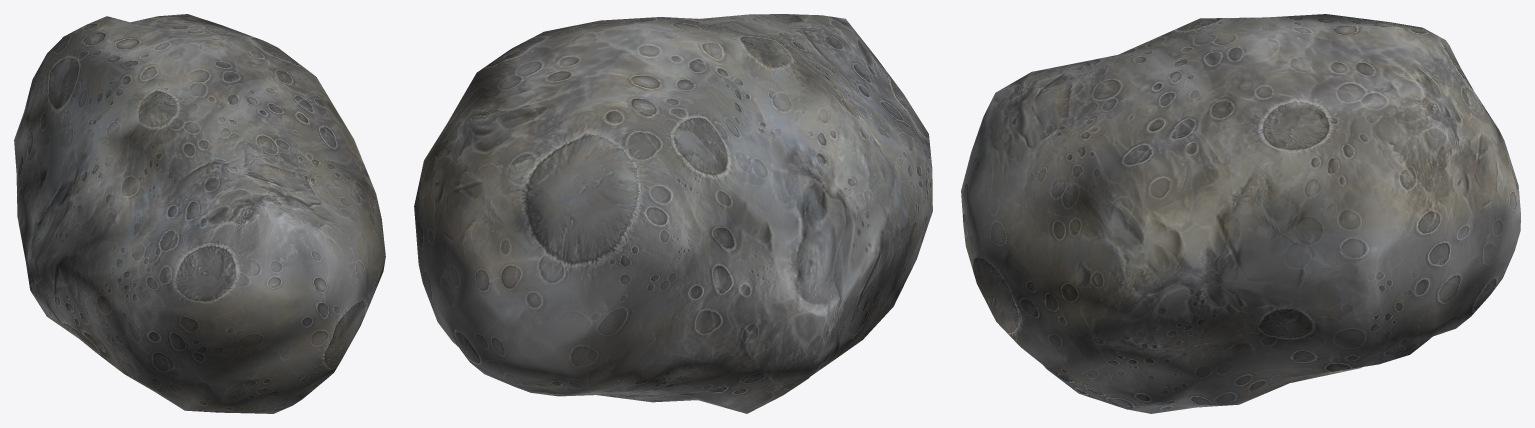
The model's file is asteroid_2_swap_02.dae.
3 views of the same model, side by side, from view 1: azimuth 30°, elevation 25°; view 2: azimuth 150°, elevation 25°; view 3: azimuth 270°, elevation 25° (orthographic). The views are drawn at different scales.
Visible parts, largest first — view 1: MULT[ShipMesh1]_LOD[0]_TAGS[DoScar]; view 2: MULT[ShipMesh1]_LOD[0]_TAGS[DoScar]; view 3: MULT[ShipMesh1]_LOD[0]_TAGS[DoScar].
Boxes of the visible parts, box(x1,y1,x2,y2) form: MULT[ShipMesh1]_LOD[0]_TAGS[DoScar]: box(14, 14, 385, 413); MULT[ShipMesh1]_LOD[0]_TAGS[DoScar]: box(414, 14, 932, 413); MULT[ShipMesh1]_LOD[0]_TAGS[DoScar]: box(961, 14, 1520, 413).
Size of the model in its own units: 34.52 by 35.65 by 48.79.
